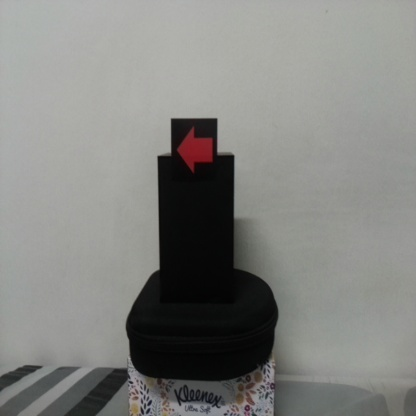id_4: (171, 118, 218, 179)
